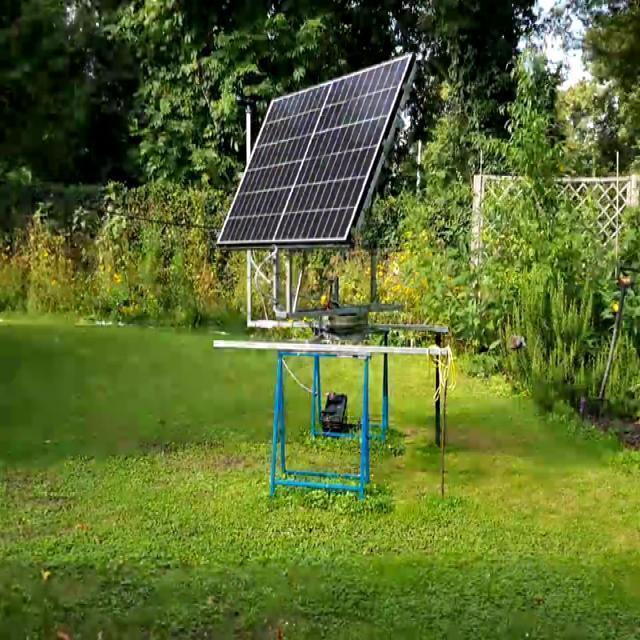Normal Solar Panel: (219, 57, 415, 247)
